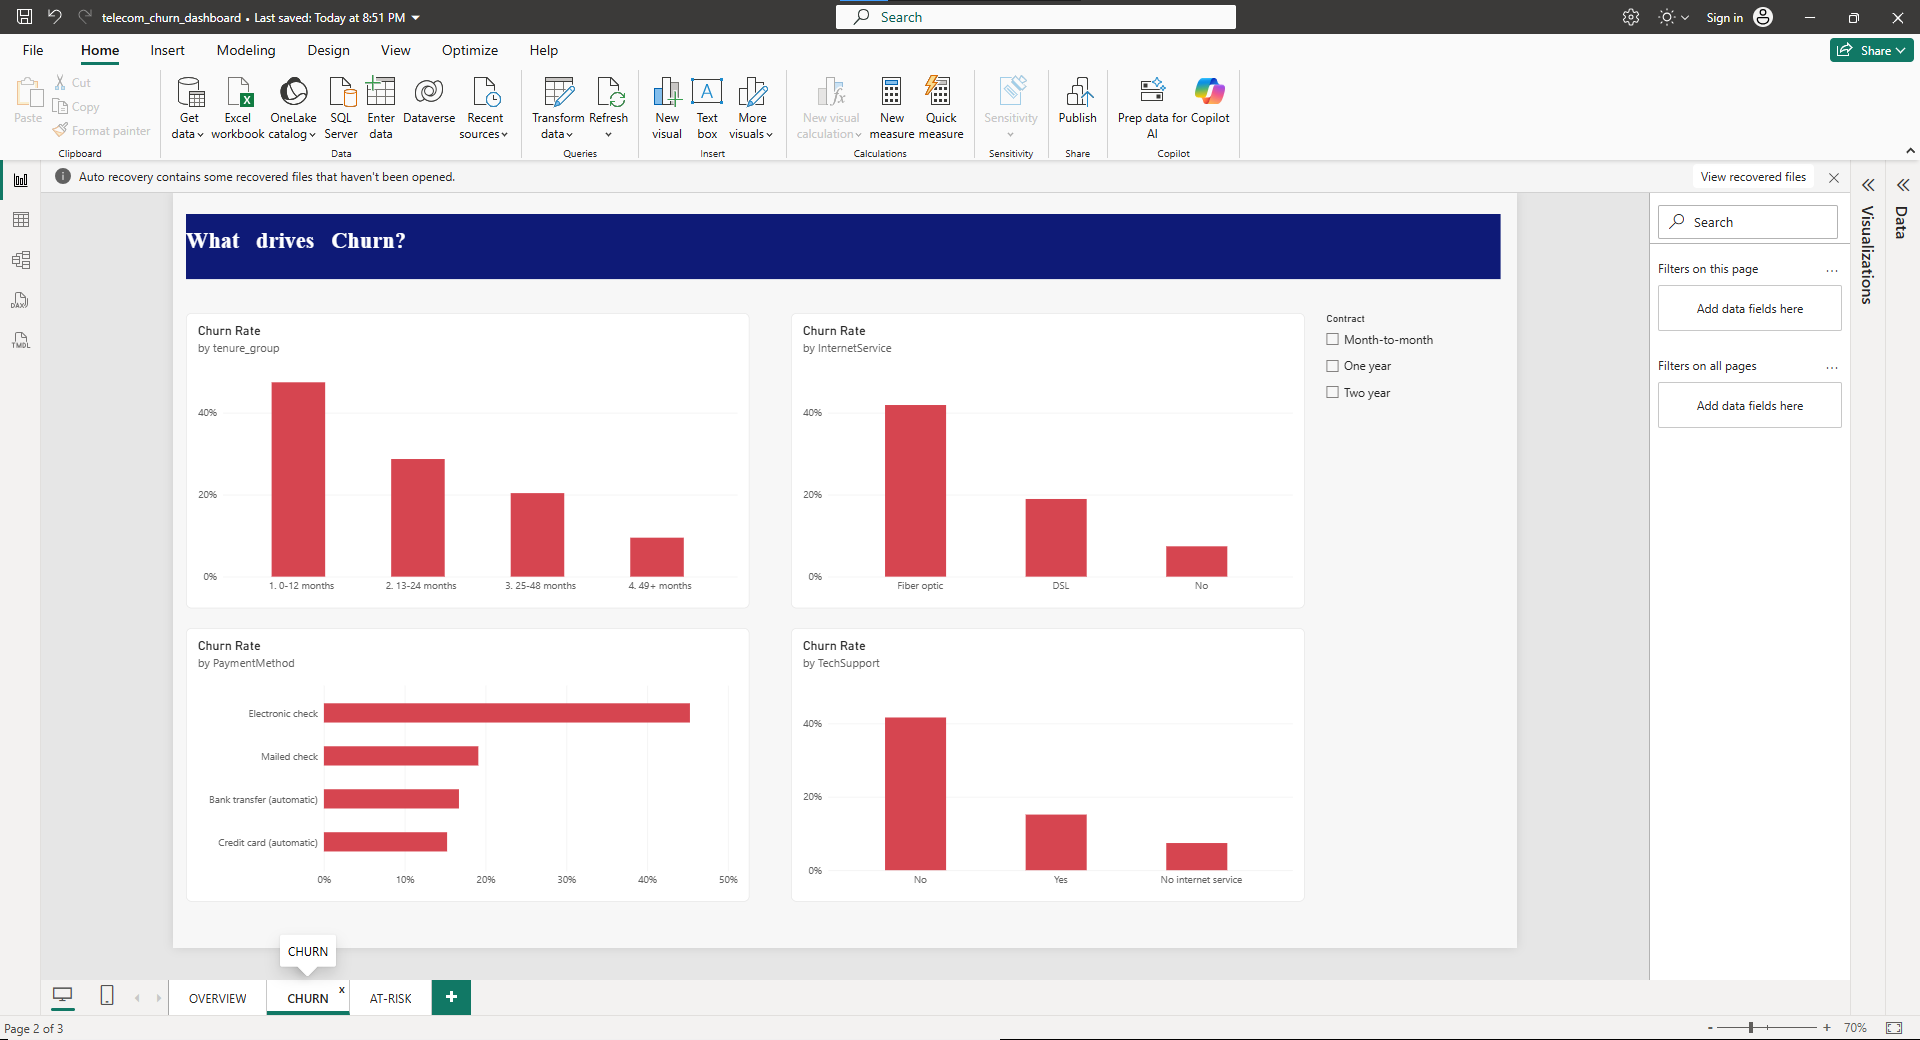

The dashboard page shown, as its layout file describes it:
{"tool":"powerbi","page":{"name":"CHURN","canvas":[1920,1080],"ordinal":1},"visuals":[{"type":"clusteredColumnChart","fields":{"Category":["telco_dashboard.tenure_group"],"Y":["telco_dashboard.Churn Rate"]},"box":[19,172.2,805.3,421.6],"z":0},{"type":"clusteredColumnChart","fields":{"Category":["telco_dashboard.InternetService"],"Y":["telco_dashboard.Churn Rate"]},"box":[882.7,172.2,733.9,421.6],"z":1000},{"type":"clusteredBarChart","fields":{"Category":["telco_dashboard.PaymentMethod"],"Y":["telco_dashboard.Churn Rate"]},"box":[19,623,805.3,391],"z":2000},{"type":"clusteredColumnChart","fields":{"Category":["telco_dashboard.TechSupport"],"Y":["telco_dashboard.Churn Rate"]},"box":[882.7,623,733.9,391],"z":3000},{"type":"slicer","fields":{"Values":["telco_dashboard.Contract"]},"box":[1639.9,172.2,280.1,841.8],"z":4000},{"type":"textbox","box":[19,32.1,1877.7,93.4],"z":5000}]}

Visuals, with their boxes on the page's 1920x1080 design canvas (x1, y1, x2, y2). These are canvas units, not pixel positions in the 1920x1040 screenshot, which may show the page scaled, cropped or inside an application window:
clusteredColumnChart - telco_dashboard.tenure_group x telco_dashboard.Churn Rate: [left=19, top=172, right=824, bottom=594]
clusteredColumnChart - telco_dashboard.InternetService x telco_dashboard.Churn Rate: [left=883, top=172, right=1617, bottom=594]
clusteredBarChart - telco_dashboard.PaymentMethod x telco_dashboard.Churn Rate: [left=19, top=623, right=824, bottom=1014]
clusteredColumnChart - telco_dashboard.TechSupport x telco_dashboard.Churn Rate: [left=883, top=623, right=1617, bottom=1014]
slicer - telco_dashboard.Contract: [left=1640, top=172, right=1920, bottom=1014]
textbox: [left=19, top=32, right=1897, bottom=126]
